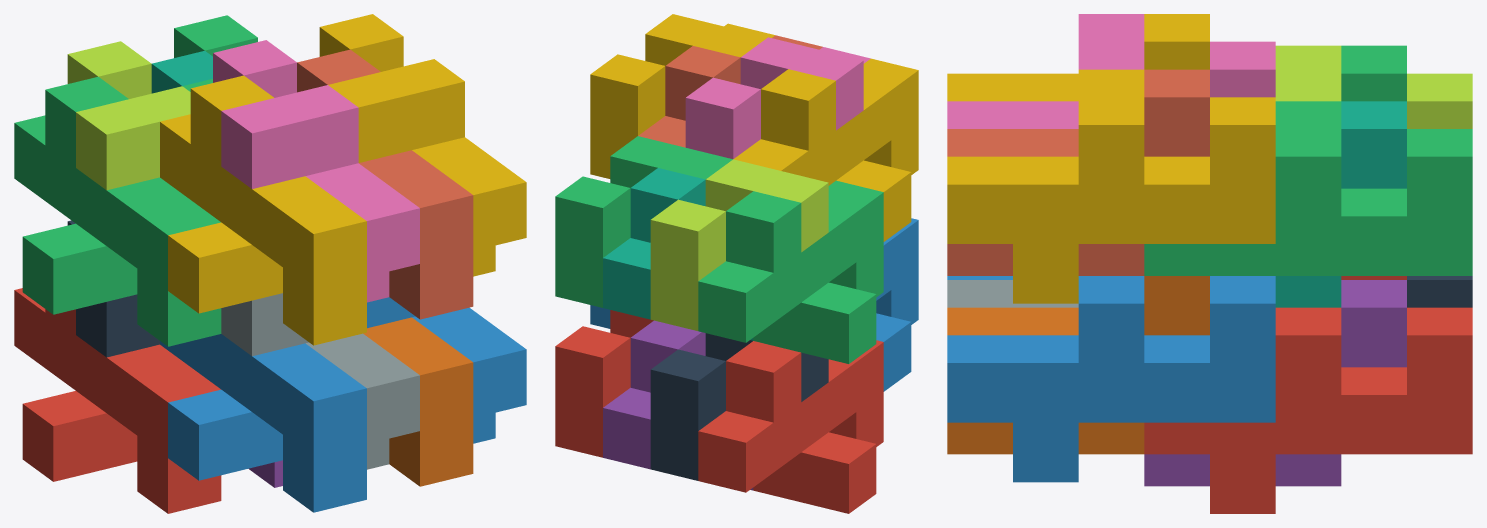
The model's file is tiling.obj.
The picture shows the model from 3 angles, left to right: view 1: azimuth 30°, elevation 25°; view 2: azimuth 150°, elevation 25°; view 3: azimuth 270°, elevation 25°; orthographic projection. The views are drawn at different scales.
Parts seen in each view (by area): view 1: copy_1_domain_4, copy_1_domain_3, copy_1_domain_2, copy_1_domain_1, copy_2_domain_4, copy_2_domain_8, copy_1_domain_8, copy_2_domain_3, copy_1_domain_6, copy_2_domain_2, copy_2_domain_6, copy_2_domain_1 (+3 smaller); view 2: copy_1_domain_3, copy_1_domain_1, copy_1_domain_4, copy_2_domain_3, copy_2_domain_7, copy_2_domain_4, copy_2_domain_8, copy_2_domain_1, copy_2_domain_5, copy_1_domain_7, copy_1_domain_5, copy_1_domain_2 (+2 smaller); view 3: copy_2_domain_8, copy_2_domain_6, copy_2_domain_5, copy_2_domain_7, copy_1_domain_8, copy_1_domain_6, copy_2_domain_4, copy_1_domain_5, copy_1_domain_7, copy_1_domain_4, copy_2_domain_3, copy_1_domain_3 (+2 smaller).
Part boxes in pixels (<box>): copy_1_domain_4: <box>160,75,366,345</box>; copy_1_domain_3: <box>14,76,221,346</box>; copy_1_domain_2: <box>160,334,366,512</box>; copy_1_domain_1: <box>14,288,221,513</box>; copy_2_domain_4: <box>213,40,419,302</box>; copy_2_domain_8: <box>319,14,526,276</box>; copy_1_domain_8: <box>297,49,473,319</box>; copy_2_domain_3: <box>67,41,190,190</box>; copy_1_domain_6: <box>363,317,473,486</box>; copy_2_domain_2: <box>221,293,419,469</box>; copy_2_domain_6: <box>367,297,526,443</box>; copy_2_domain_1: <box>67,220,159,357</box>; copy_1_domain_3: <box>698,180,883,363</box>; copy_1_domain_1: <box>698,340,883,513</box>; copy_1_domain_4: <box>734,58,918,241</box>; copy_2_domain_3: <box>650,159,828,330</box>; copy_2_domain_7: <box>555,136,732,307</box>; copy_2_domain_4: <box>685,37,870,159</box>; copy_2_domain_8: <box>590,14,775,178</box>; copy_2_domain_1: <box>650,333,828,480</box>; copy_2_domain_5: <box>555,310,653,457</box>; copy_1_domain_7: <box>603,168,753,340</box>; copy_1_domain_5: <box>603,320,753,490</box>; copy_1_domain_2: <box>876,218,918,391</box>; copy_2_domain_8: <box>947,69,1275,303</box>; copy_2_domain_6: <box>947,276,1275,482</box>; copy_2_domain_5: <box>1144,307,1472,513</box>; copy_2_domain_7: <box>1144,101,1472,275</box>; copy_1_domain_8: <box>947,69,1209,275</box>; copy_1_domain_6: <box>947,276,1209,454</box>; copy_2_domain_4: <box>947,14,1275,128</box>; copy_1_domain_5: <box>1144,280,1406,486</box>; copy_1_domain_7: <box>1275,101,1406,307</box>; copy_1_domain_4: <box>947,14,1209,101</box>; copy_2_domain_3: <box>1275,45,1472,128</box>; copy_1_domain_3: <box>1341,45,1406,101</box>.
Bounding box in the file's own units: 6 × 7 × 8.
